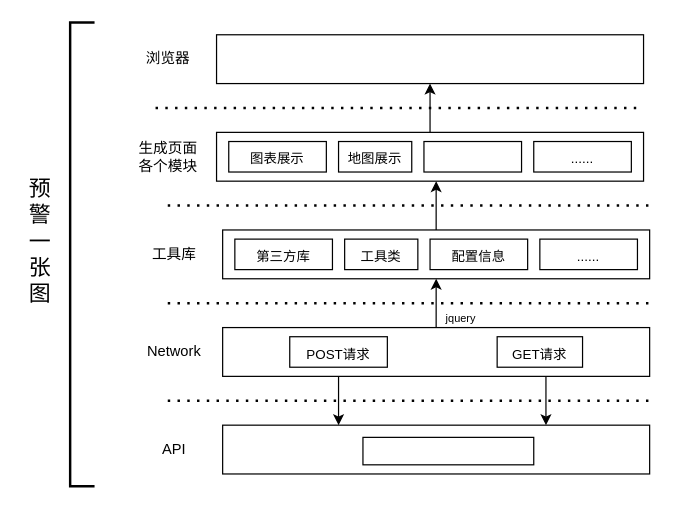
Some shapes in this 678 by 508 pixel diagram are drawn without their labels. The shapes that lost their labels are listed below. From the top down, each one's centre as x and y in pixels, then its label:
the point at 429,59: HTML\CSS\JS\jQuery\Echarts
the point at 472,156: 数据文本展示
the point at 448,450: 后台接口
